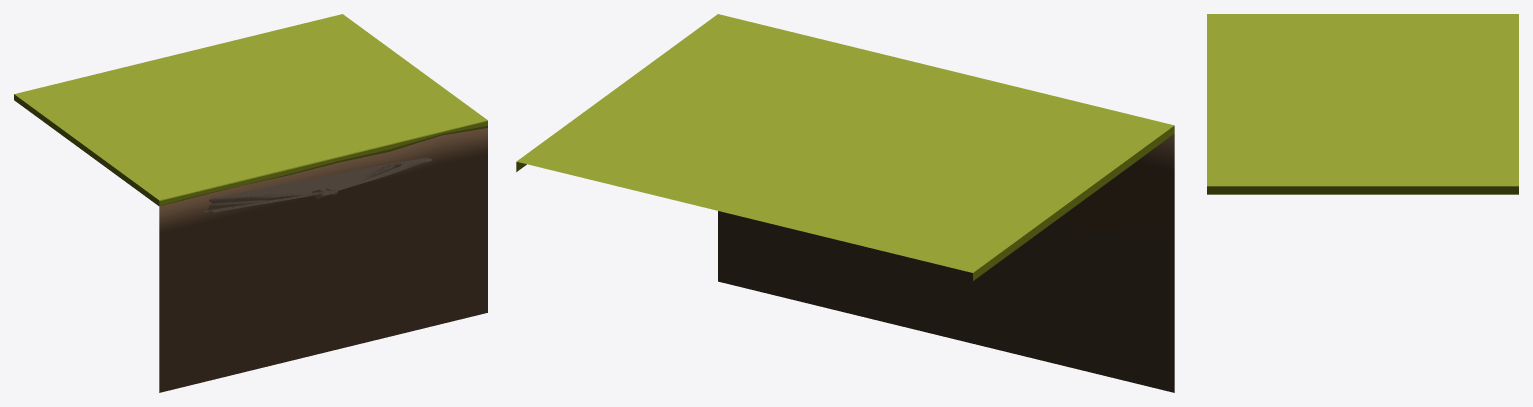
The model's file is ground_yard.FBX.
3 renders of one model, left to right at view 1: azimuth 30°, elevation 25°; view 2: azimuth 150°, elevation 25°; view 3: azimuth 270°, elevation 25°, orthographic. The views are drawn at different scales.
Parts seen in each view (by area): view 1: ground_yard; view 2: ground_yard; view 3: ground_yard.
Boxes of the visible parts, left/top/right/bottom form: ground_yard: left=14, top=14, right=487, bottom=392; ground_yard: left=516, top=14, right=1174, bottom=392; ground_yard: left=1207, top=14, right=1518, bottom=194.
Size of the model in its own units: 787 by 441 by 610.
1 material, 1 textured.
